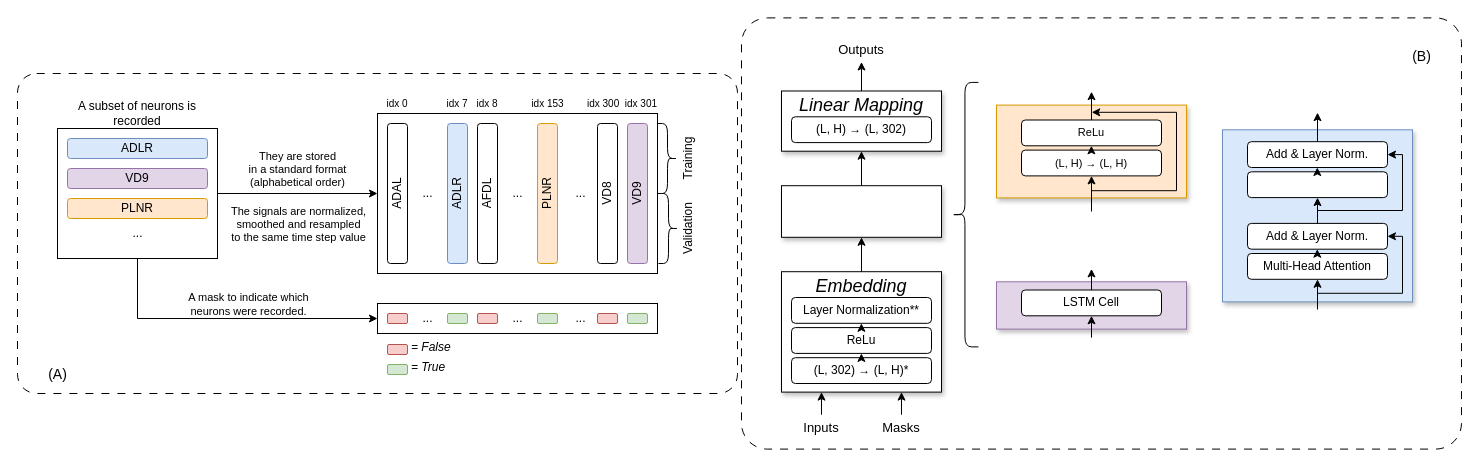
Image size: 1479x467. Some labels were removed from this diagram. The centre of each missing label's shape, as x and y in pixels:
"Core" belongs at point (862, 212).
"Feed Forward" belongs at point (1317, 184).
